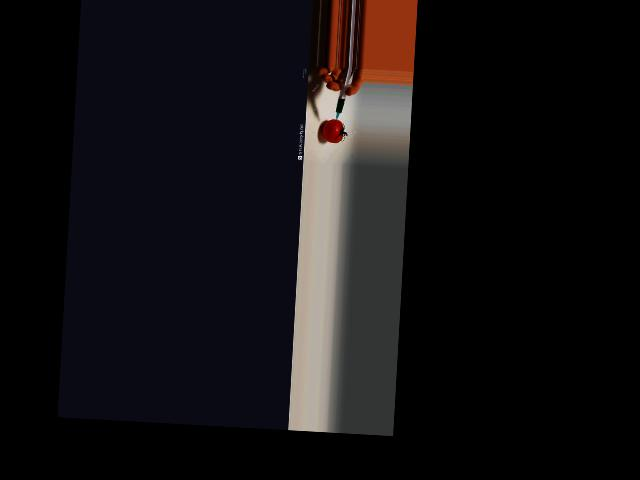tomato: (321, 118, 343, 142)
